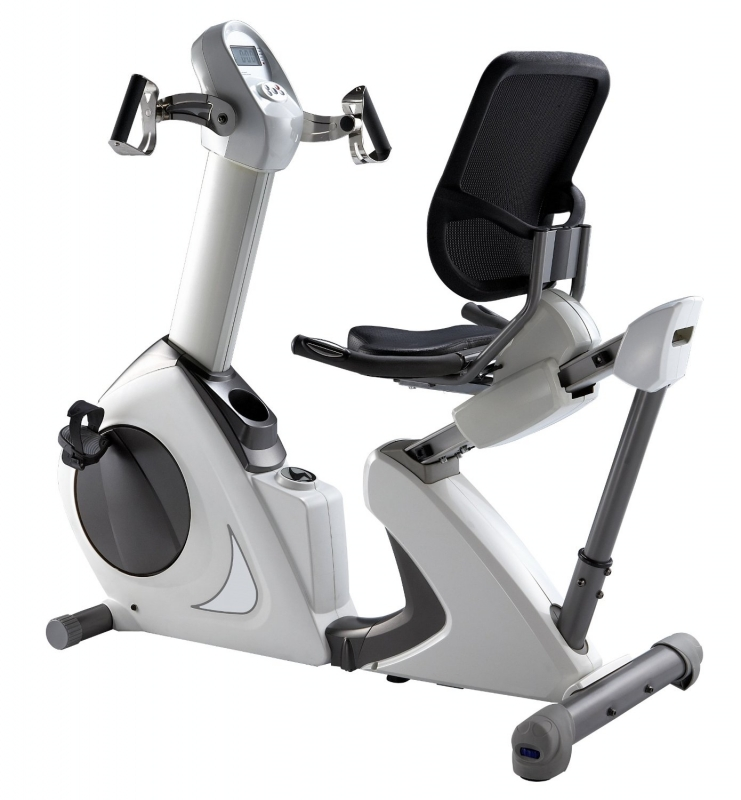gym_bike: (27, 17, 723, 774)
